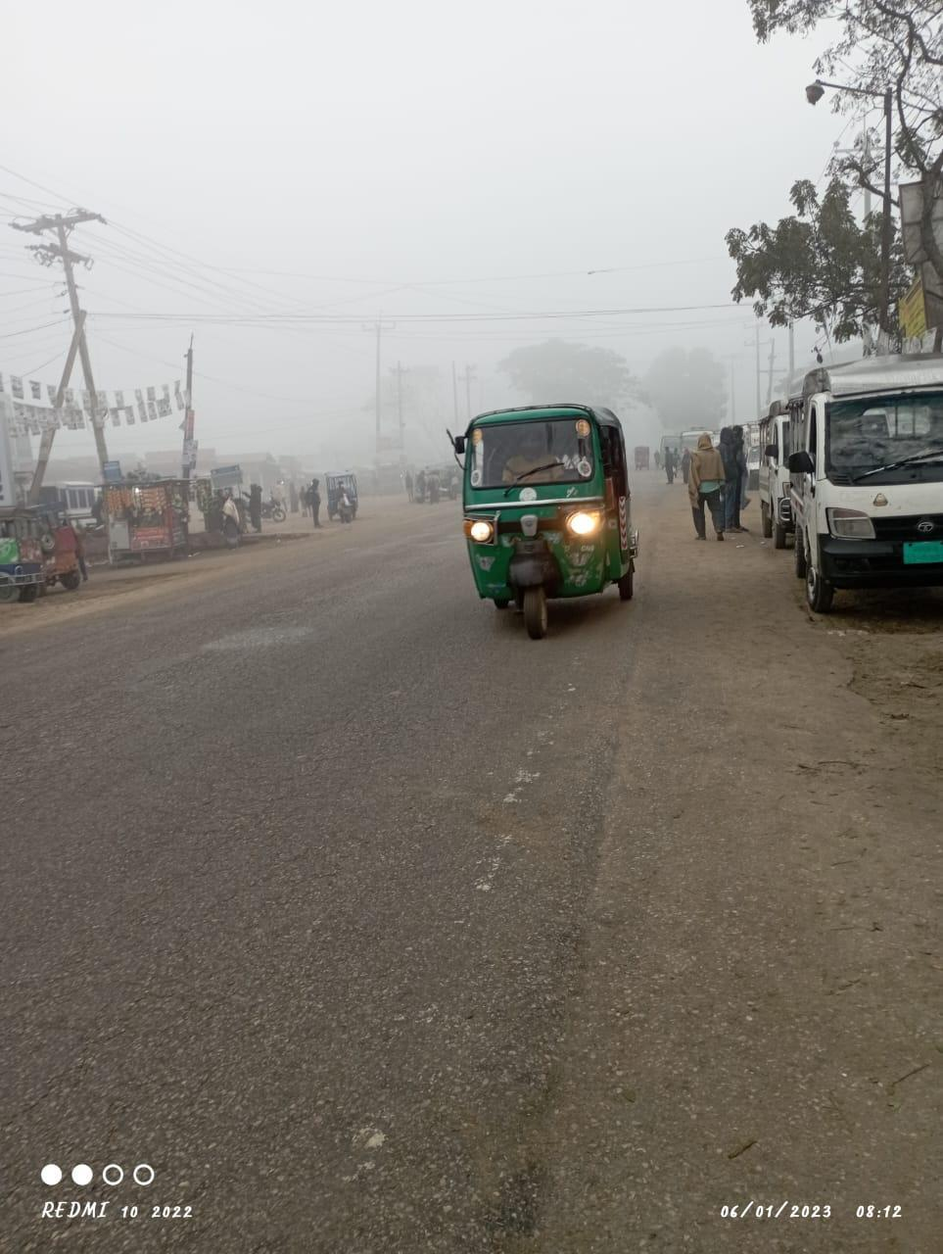Car: (768, 352, 943, 642), (1, 492, 49, 600), (322, 466, 366, 530)
